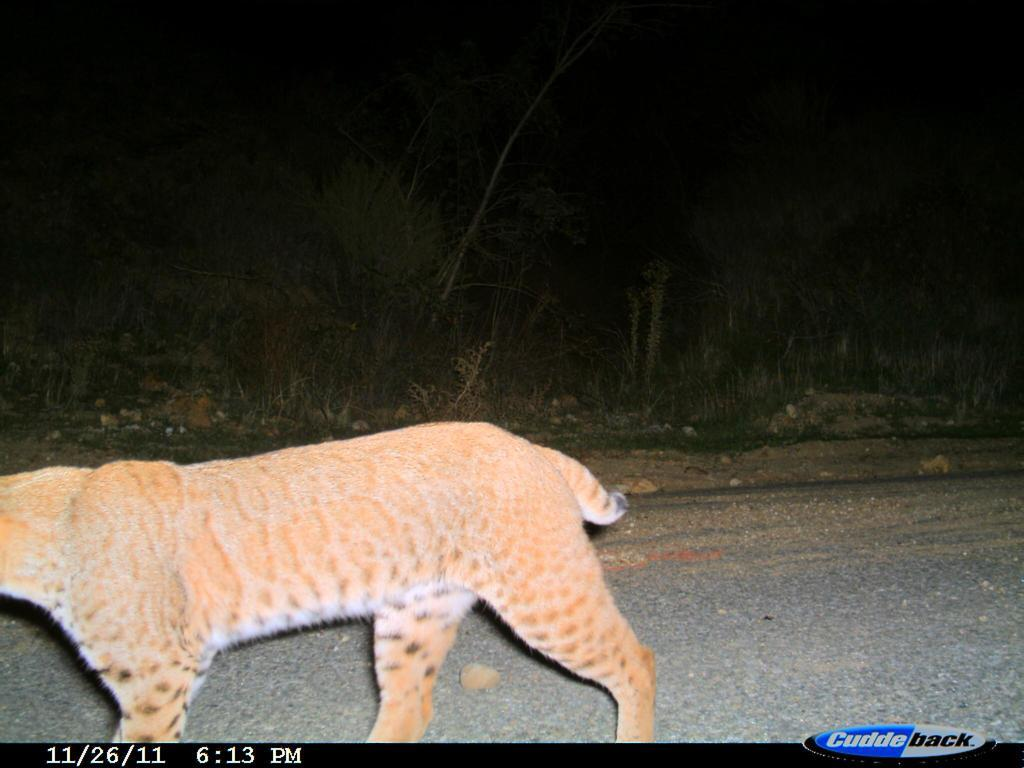bobcat: (2, 413, 664, 742)
